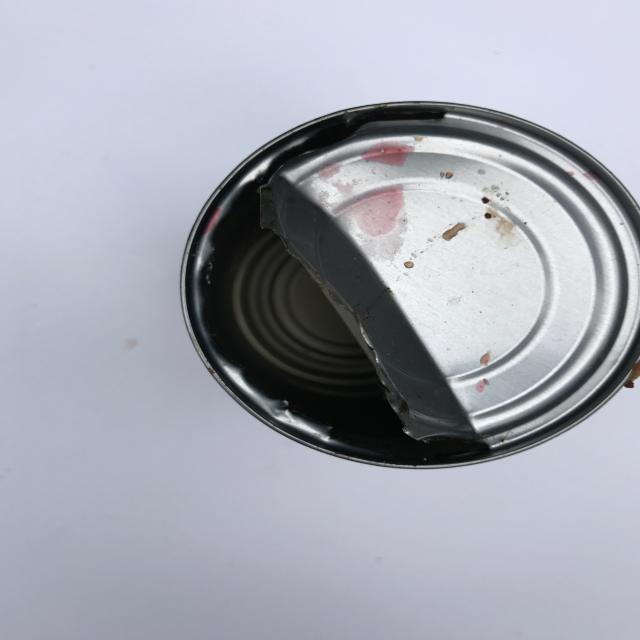metal: (179, 99, 640, 469)
